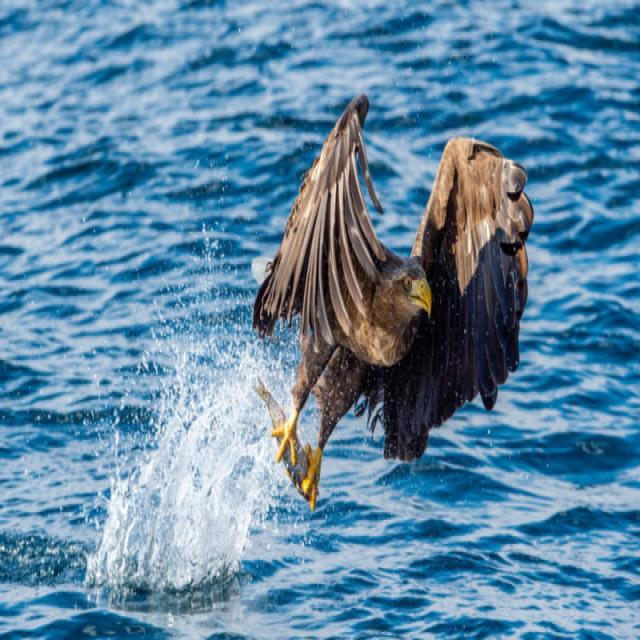Carnivorous: (251, 96, 535, 506)
